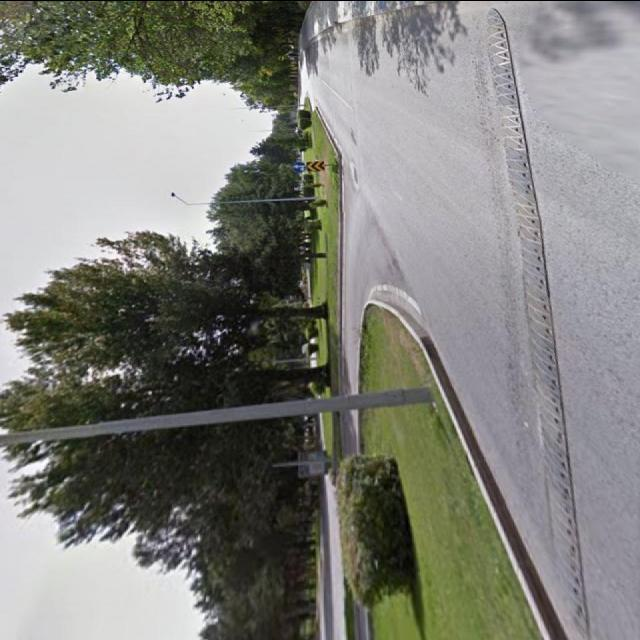speedbreaker: (484, 0, 588, 638)
